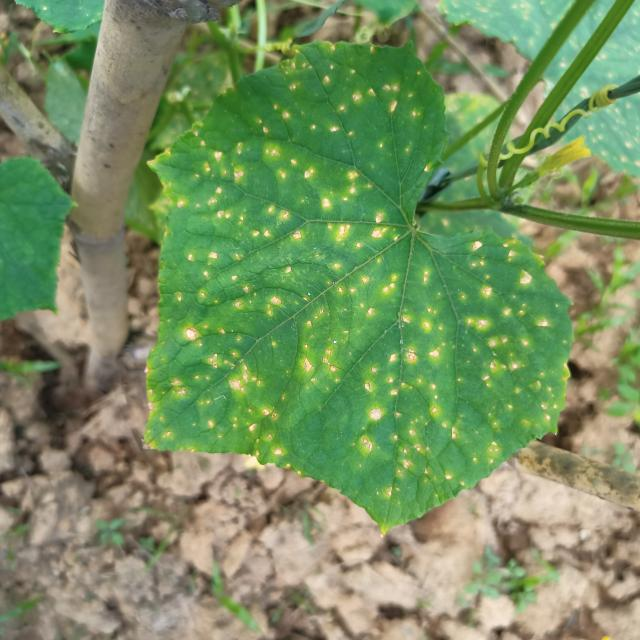disease_cucumber: (168, 60, 562, 508)
